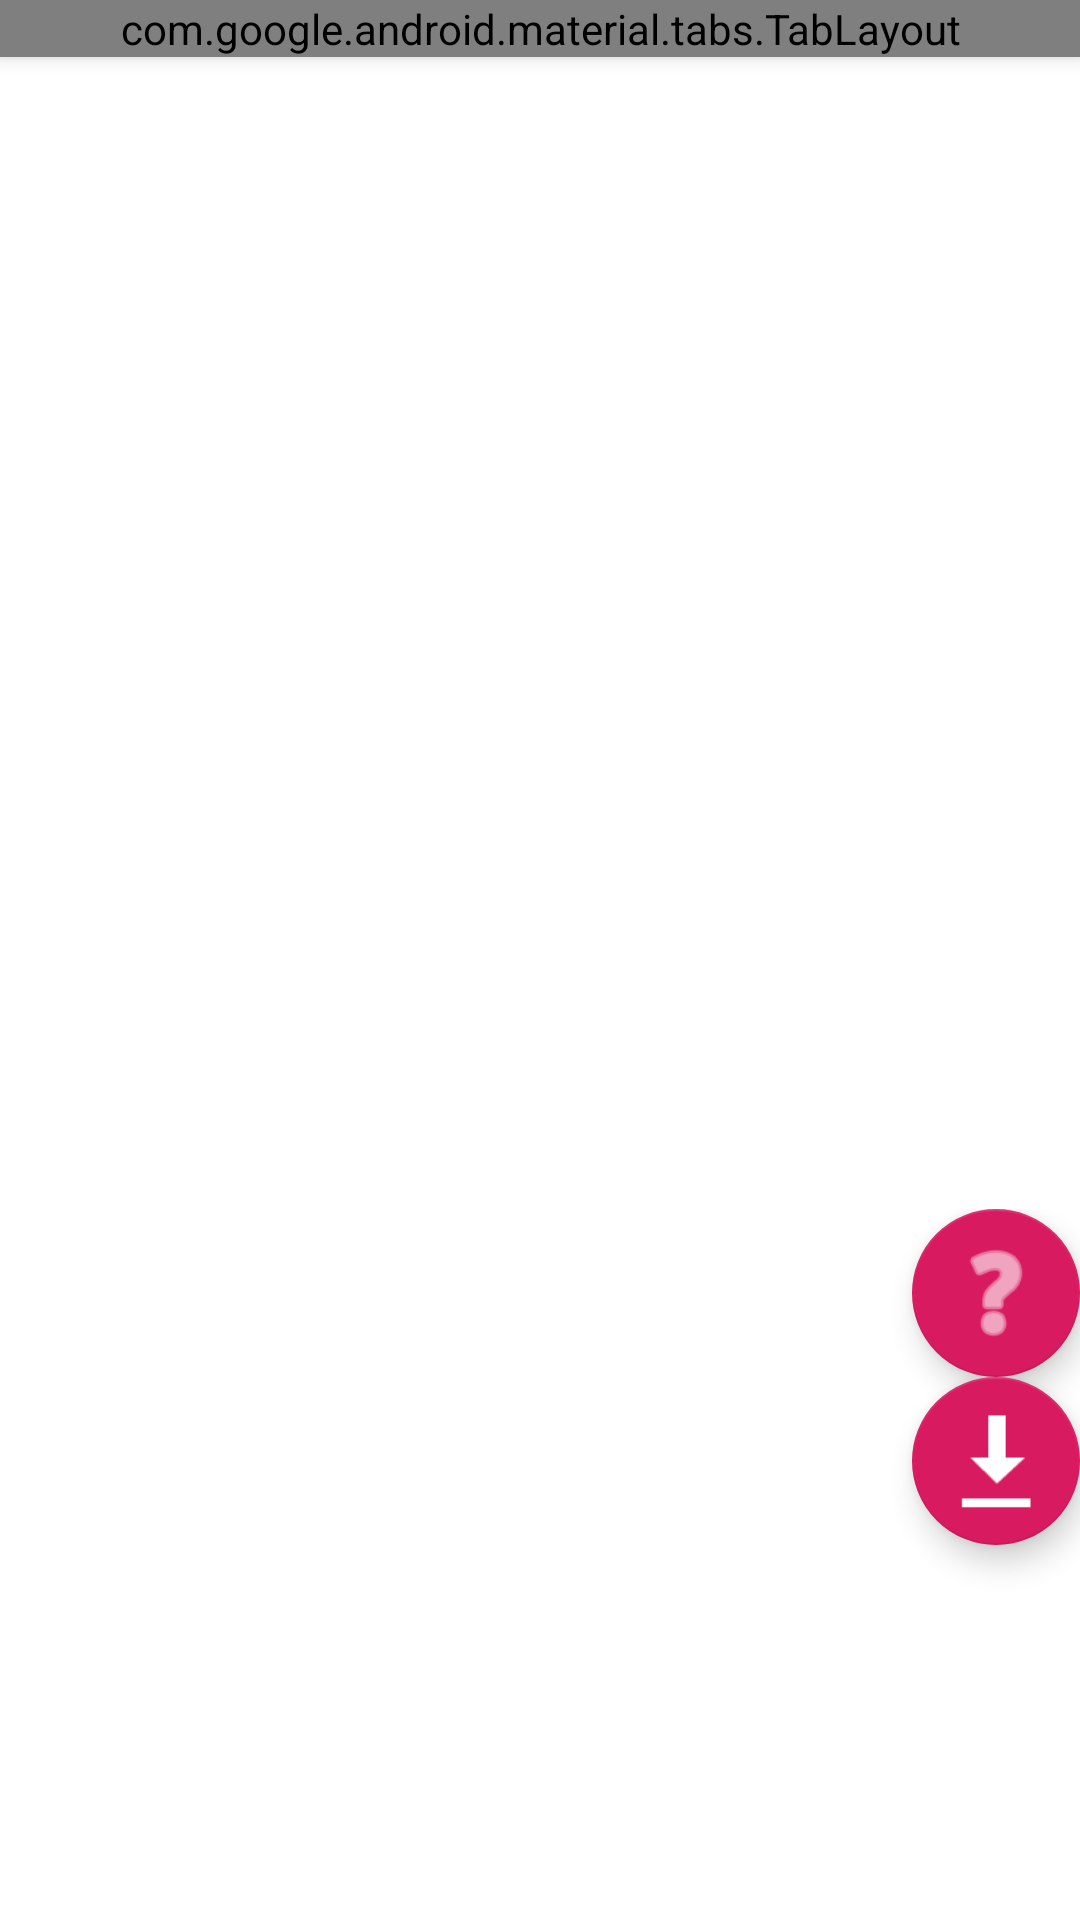

Icon click points for this 1080x1920 phone screenshot, format point (x, y):
download: point (996, 1461)
help: point (996, 1293)
